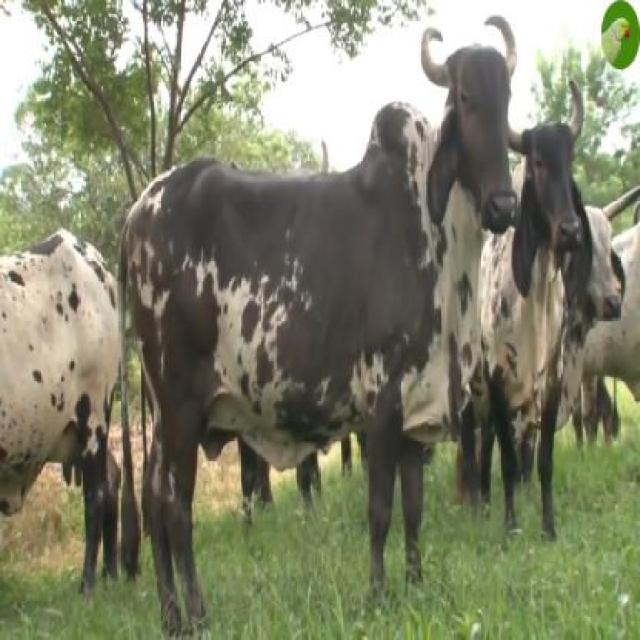Cow: (118, 16, 517, 638), (505, 76, 583, 562)
